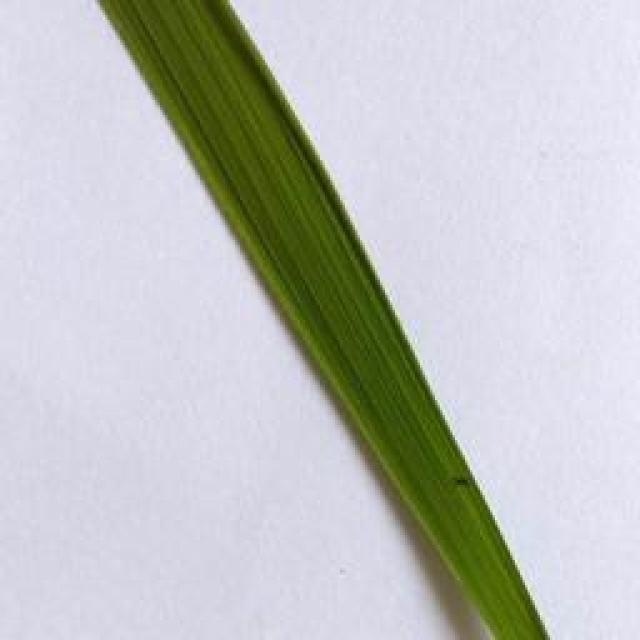Healthy-Plant: (101, 0, 552, 640)
